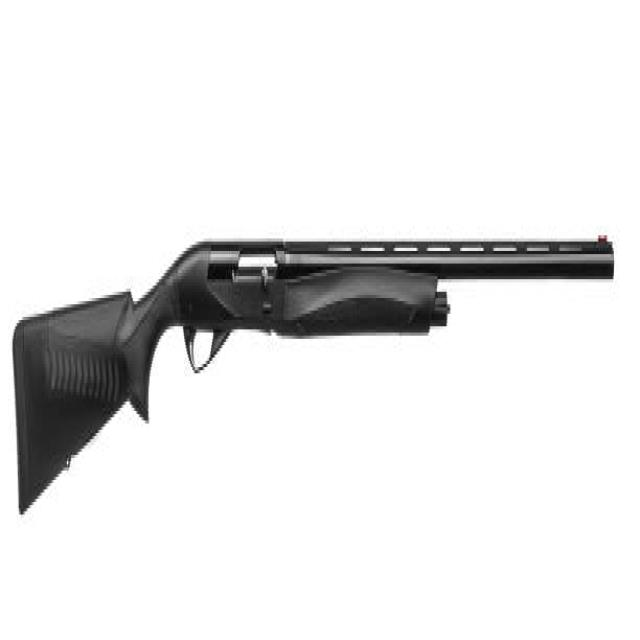rifle: (12, 224, 619, 529)
